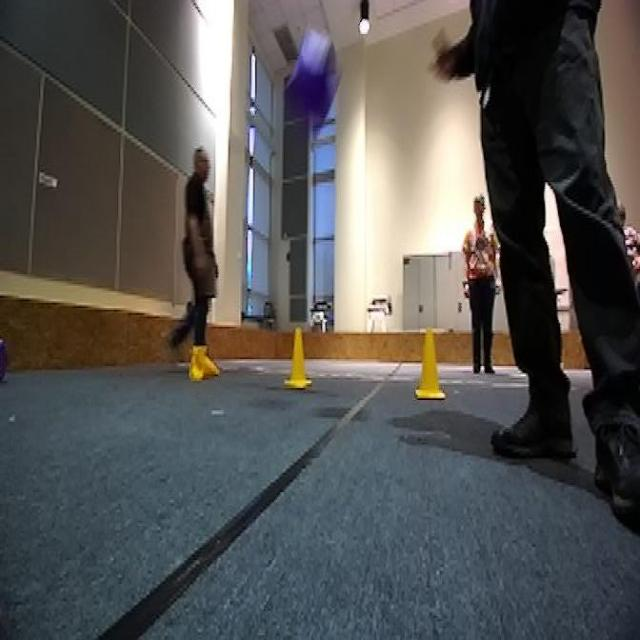frc_cone: (408, 329, 452, 400), (282, 328, 314, 386), (190, 351, 215, 381)
frc_cube: (286, 27, 338, 133), (0, 337, 10, 383)
